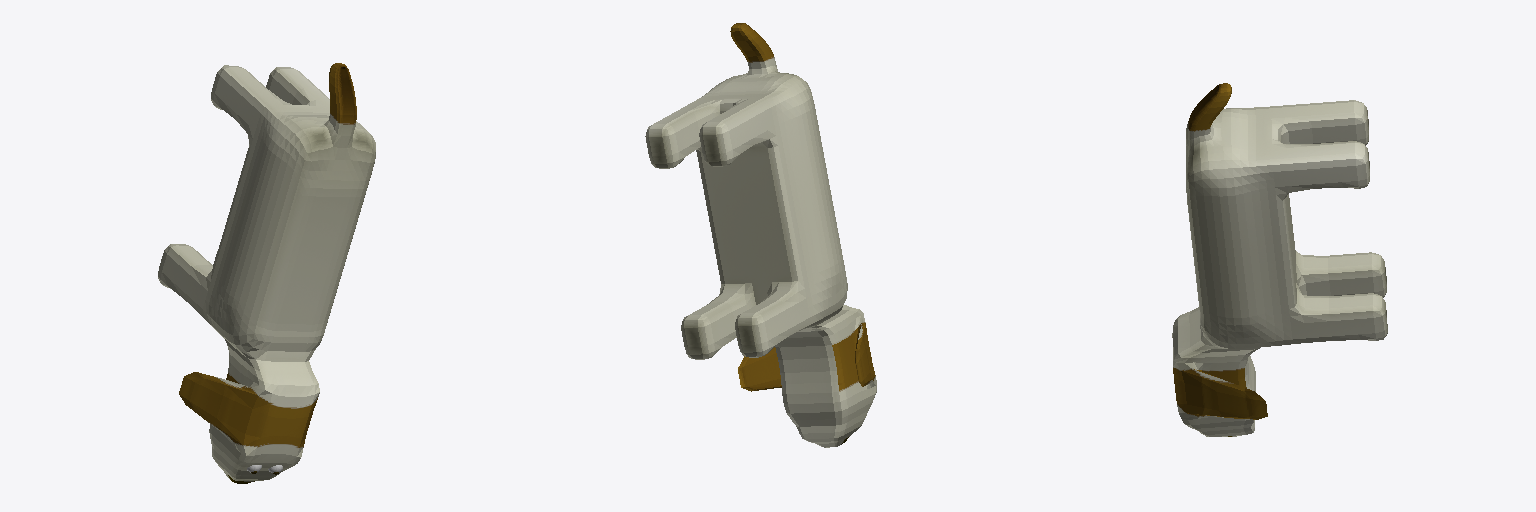
3 renders of one model, left to right at view 1: azimuth 30°, elevation 25°; view 2: azimuth 150°, elevation 25°; view 3: azimuth 270°, elevation 25°, orthographic.
Parts seen in each view (by area): view 1: Box001; view 2: Box001; view 3: Box001.
Part boxes in pixels (bbox=[...]): Box001: bbox=[158, 63, 375, 483]; Box001: bbox=[645, 23, 876, 447]; Box001: bbox=[1172, 83, 1387, 436].
Size of the model in its own units: 40.84 by 91.74 by 45.04.
1 materials, 1 textured.